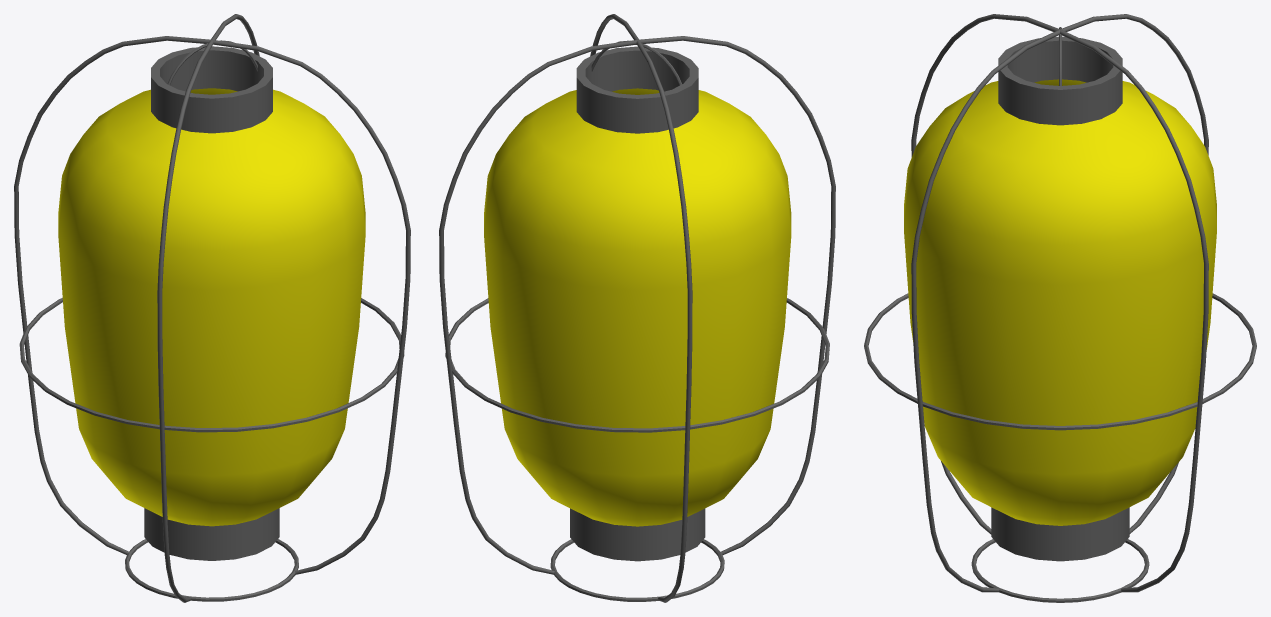
The model's file is LampFBX.fbx.
The picture shows the model from 3 angles, left to right: view 1: azimuth 30°, elevation 25°; view 2: azimuth 150°, elevation 25°; view 3: azimuth 270°, elevation 25°; orthographic projection.
Parts seen in each view (by area): view 1: Paper_low, TopMetal_low, WireR_low, BotMetal_low, WireL_low, WireMid_low, WireBot_low; view 2: Paper_low, TopMetal_low, WireL_low, BotMetal_low, WireR_low, WireMid_low, WireBot_low; view 3: Paper_low, TopMetal_low, WireL_low, WireR_low, BotMetal_low, WireMid_low, WireBot_low.
Part boxes in pixels (bbox=[...]): Paper_low: bbox=[58, 88, 365, 526]; TopMetal_low: bbox=[151, 46, 272, 133]; WireR_low: bbox=[14, 36, 410, 574]; BotMetal_low: bbox=[144, 508, 279, 560]; WireL_low: bbox=[157, 14, 259, 602]; WireMid_low: bbox=[19, 298, 404, 432]; WireBot_low: bbox=[125, 539, 298, 601]; Paper_low: bbox=[484, 88, 791, 526]; TopMetal_low: bbox=[576, 46, 698, 133]; WireL_low: bbox=[439, 36, 835, 574]; BotMetal_low: bbox=[570, 508, 705, 561]; WireR_low: bbox=[590, 14, 692, 602]; WireMid_low: bbox=[445, 298, 829, 432]; WireBot_low: bbox=[550, 539, 724, 601]; Paper_low: bbox=[904, 79, 1216, 525]; TopMetal_low: bbox=[998, 36, 1122, 125]; WireL_low: bbox=[911, 14, 1208, 592]; WireR_low: bbox=[911, 14, 1208, 592]; BotMetal_low: bbox=[991, 507, 1129, 561]; WireMid_low: bbox=[864, 293, 1256, 430]; WireBot_low: bbox=[971, 539, 1149, 602].
Size of the model in its own units: 3.22 by 4.84 by 3.22.
